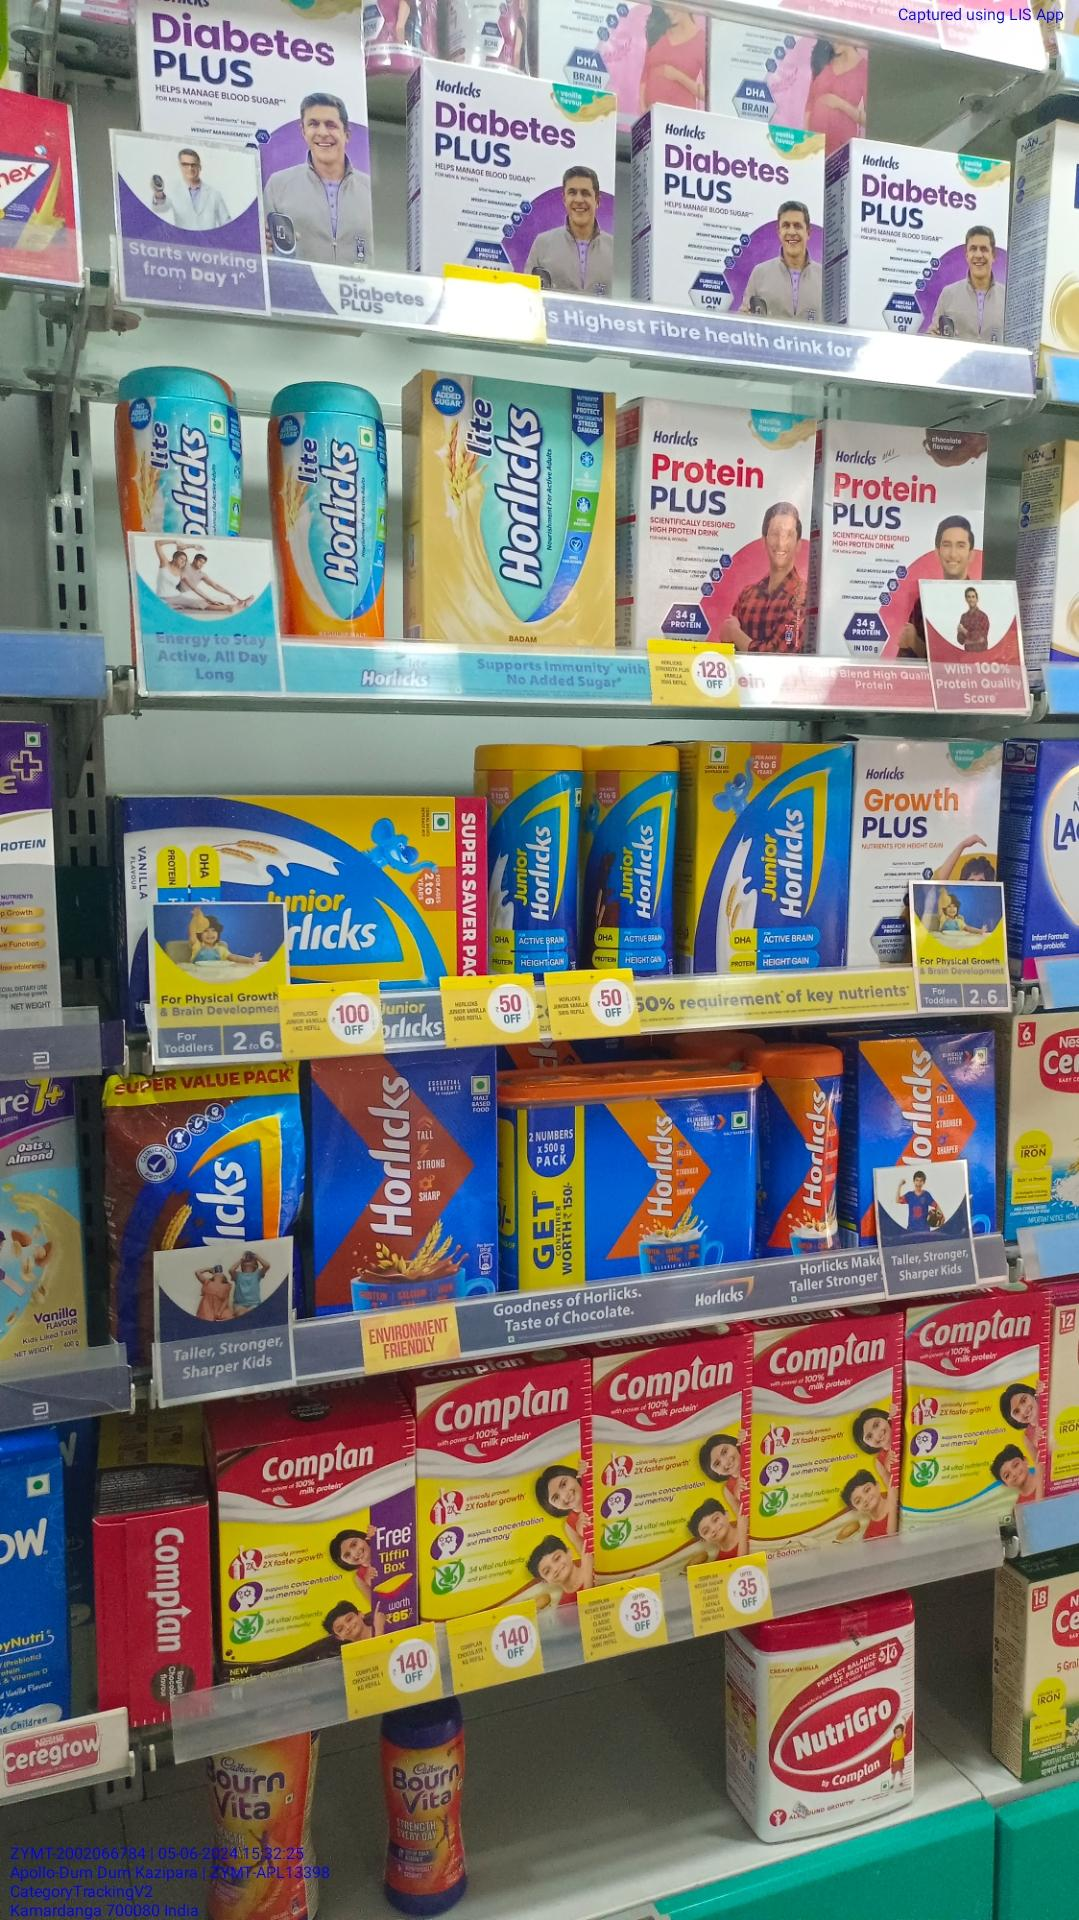HORLICKS_JUNIOR_VANILLA_500_GM_JAR: (485, 741, 590, 971), (587, 754, 686, 973)
HORLICKS_LITE_REGULAR_MALT_500_GM_JAR: (285, 402, 379, 655)
HORLICK_MALT_1_KG_CONTAINER: (516, 1060, 768, 1294)
